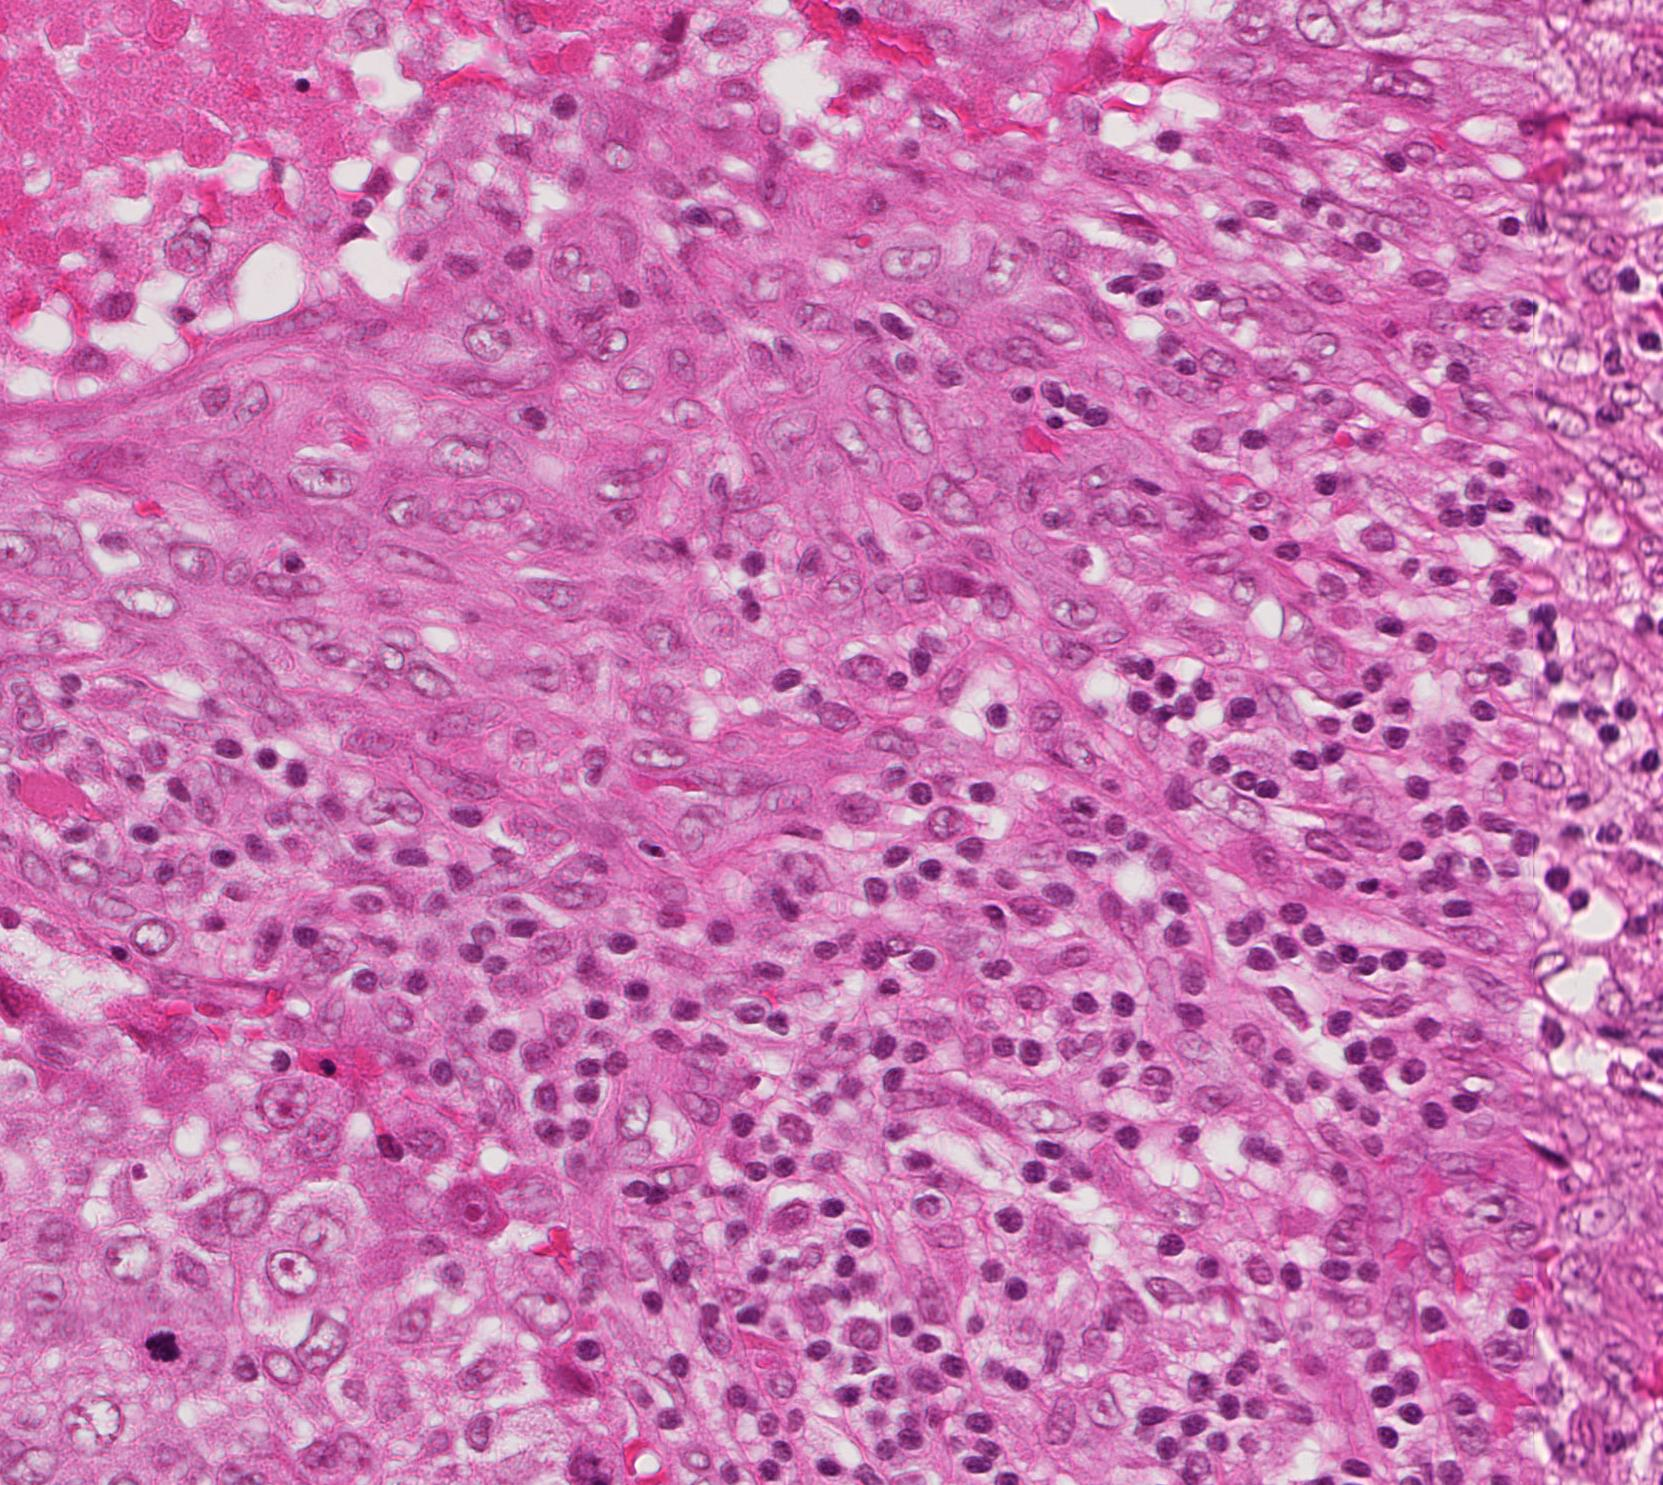mitosis: (133, 1316, 194, 1376), (562, 1433, 622, 1485)
